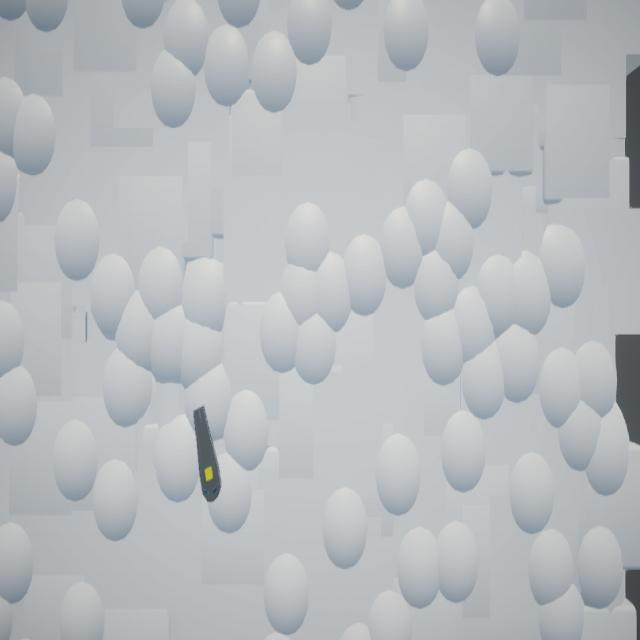handle_knife: (194, 407, 223, 503)
